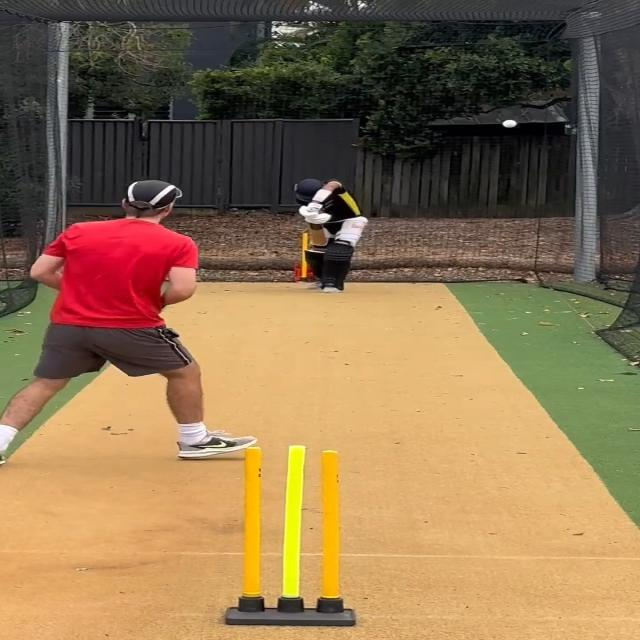ball: (502, 120, 519, 128)
stump: (220, 446, 360, 626)
